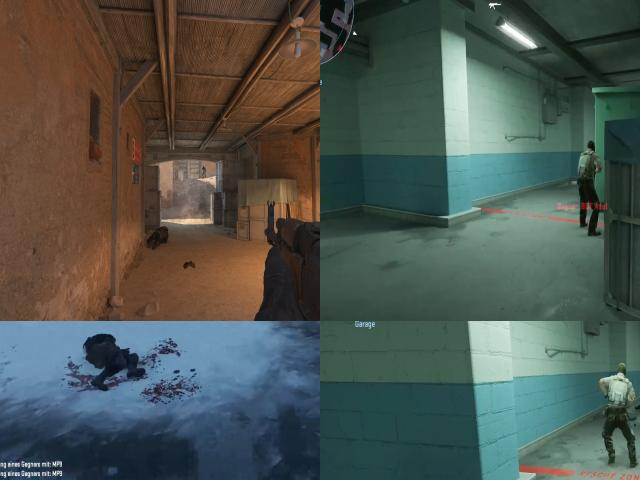CT: (202, 165, 206, 177)
CT-Head: (203, 165, 204, 167)
Dead: (75, 328, 151, 394), (147, 227, 170, 246)
T: (598, 358, 636, 420), (576, 137, 600, 189)
T-Head: (611, 358, 630, 382), (582, 140, 596, 153)
